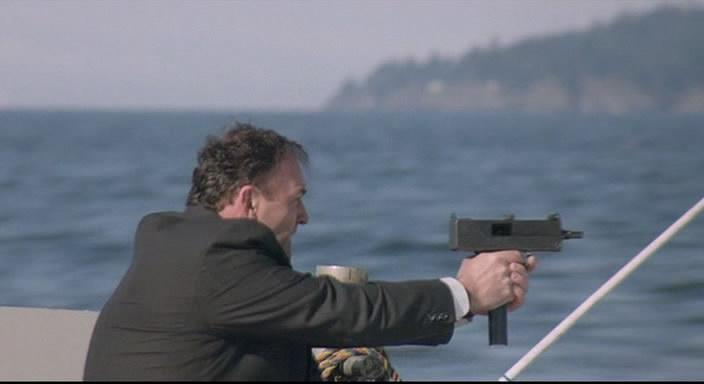gun: (420, 205, 595, 351)
